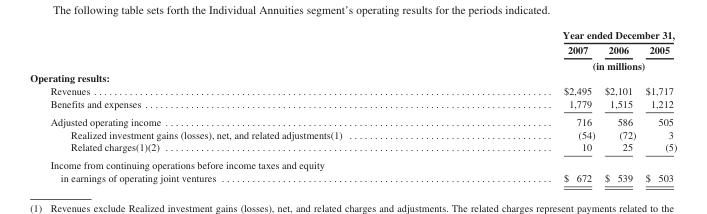table: (29, 28, 676, 183)
table column: (29, 28, 451, 183), (451, 28, 599, 183), (599, 28, 640, 183), (640, 28, 676, 183)
table column header: (29, 28, 676, 71)
table projected row header: (29, 71, 676, 84)
table row: (29, 155, 676, 183), (29, 42, 676, 57), (29, 97, 676, 112), (29, 112, 676, 127), (29, 140, 676, 155), (29, 28, 676, 42), (29, 57, 676, 71), (29, 71, 676, 84), (29, 84, 676, 97), (29, 127, 676, 140)
table spanning cell: (451, 28, 676, 42), (451, 57, 676, 71)
